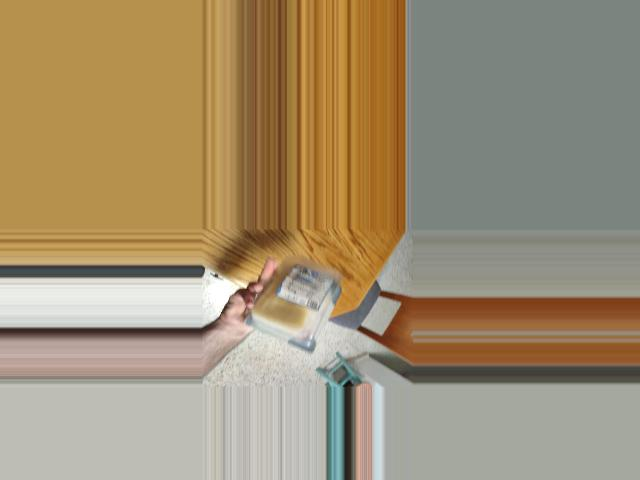cheese: (268, 261, 341, 352)
